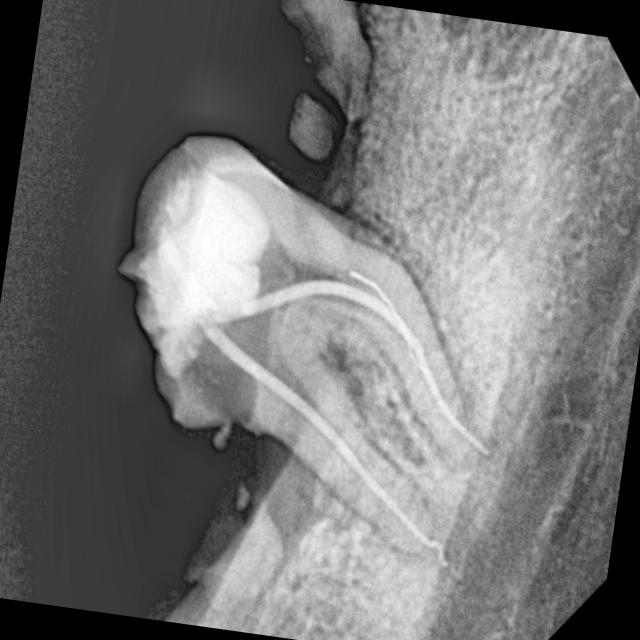RCT: (218, 237, 518, 574)
Restoration: (94, 120, 276, 444)
